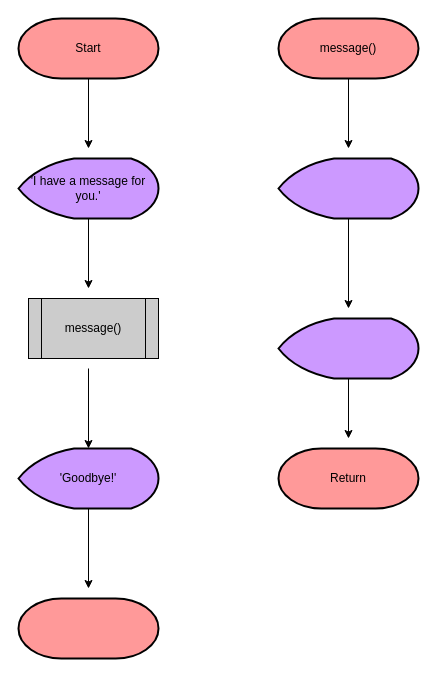
Some shapes in this 436 by 676 pixel diagram are drawn without their labels. The shapes that lost their labels are listed below. From the top down, each one's box as (x1, y1, x2, y2) in pixels, then its label:
(277, 157, 419, 219): 'I am Arthur'
(277, 317, 419, 379): 'king of the Britons'
(17, 597, 159, 659): Stop
